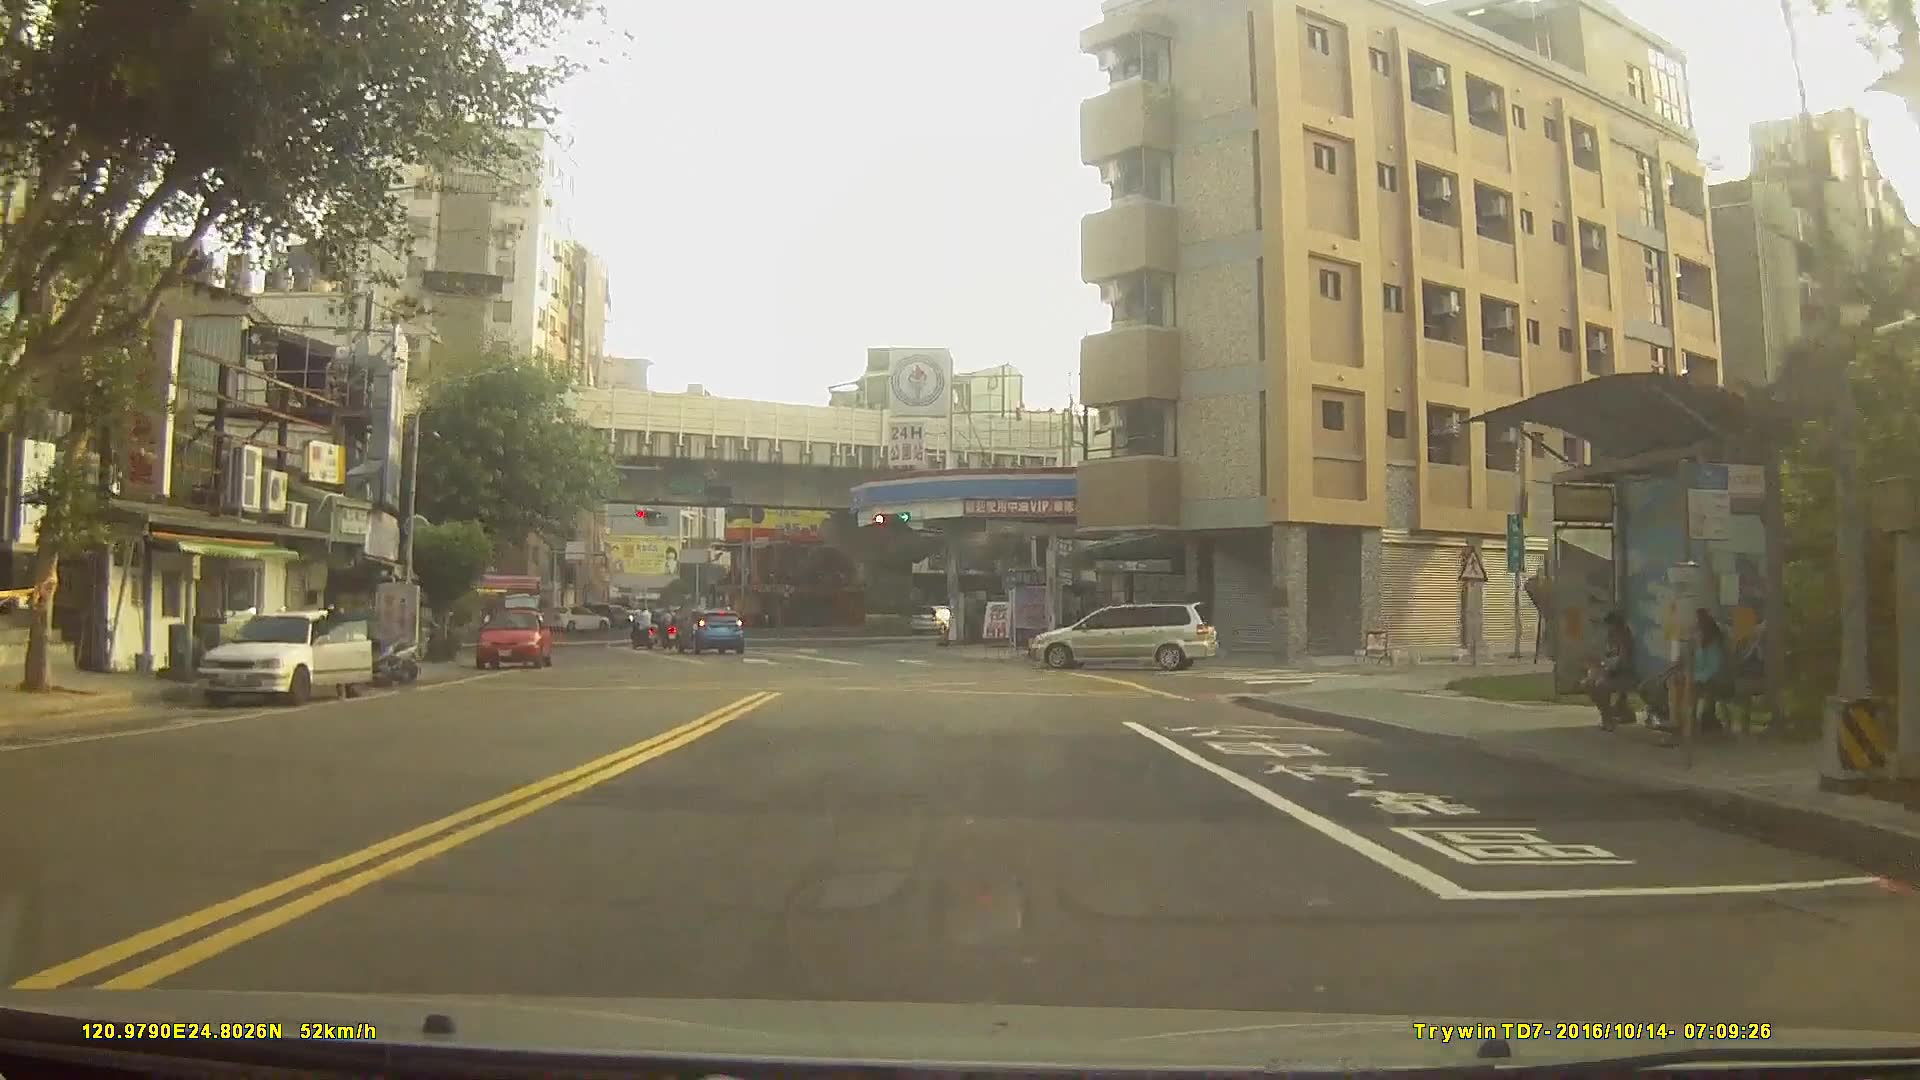pedestrian: (1576, 616, 1640, 733), (1682, 597, 1712, 758)
rider: (628, 606, 659, 655)
vehicle: (195, 607, 372, 708), (1028, 602, 1221, 670), (474, 607, 553, 668), (672, 607, 746, 653), (543, 604, 610, 633), (552, 603, 614, 633), (907, 602, 960, 633)
